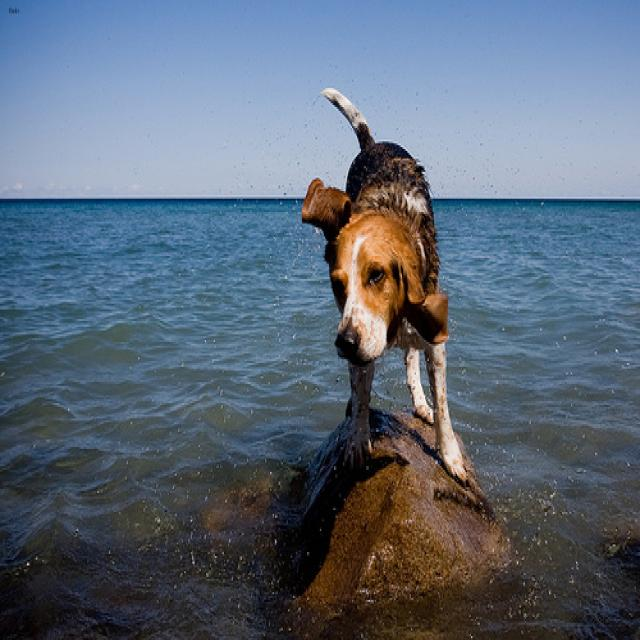dog-beagle: (300, 84, 471, 485)
